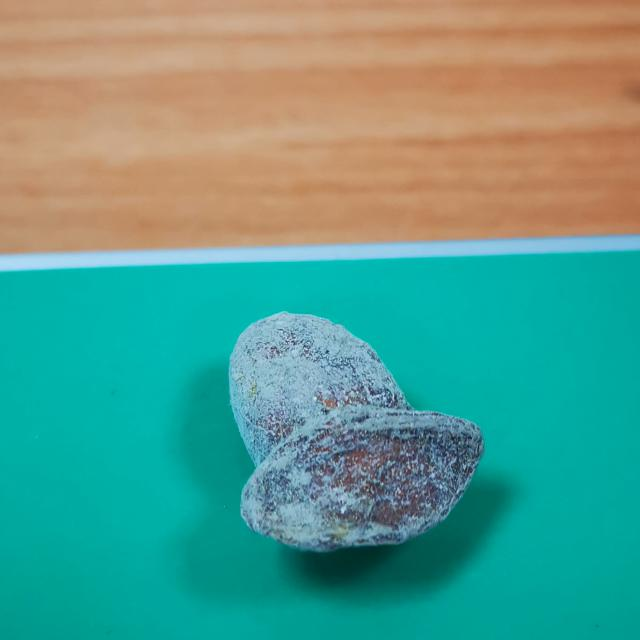Agglomerated_cocoabeans: (103, 289, 564, 640)
